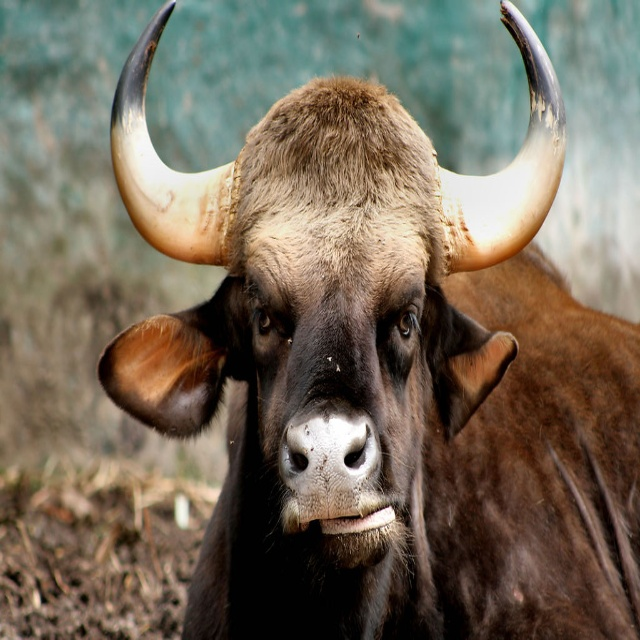Bull: (94, 0, 640, 639)
